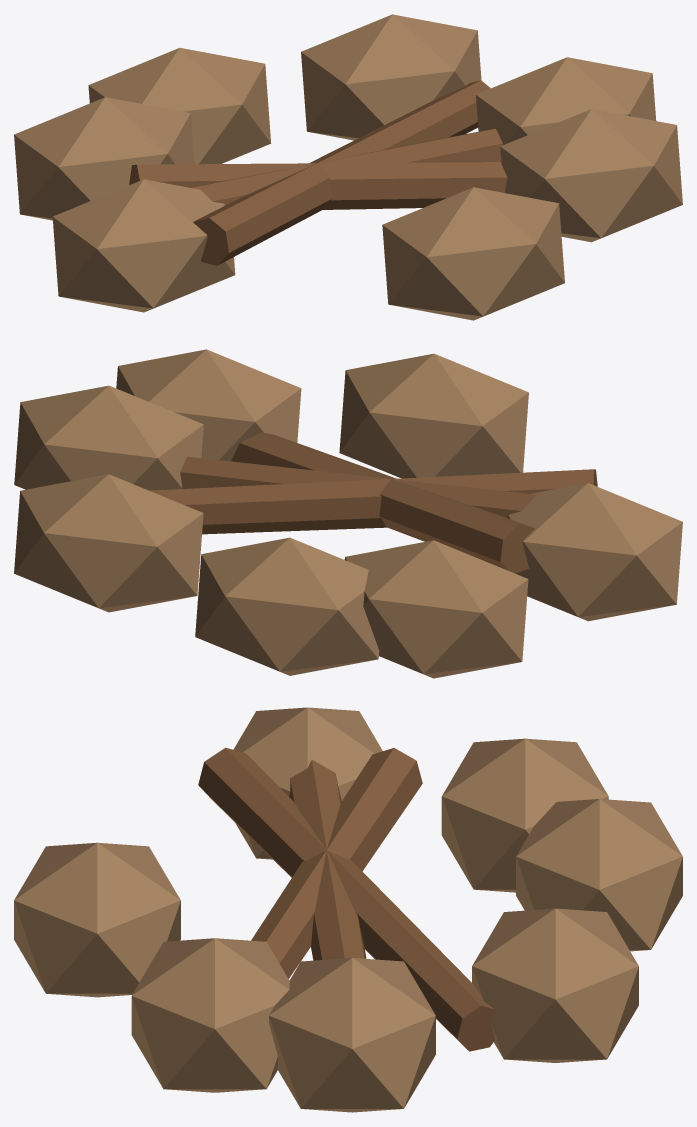
The model's file is CC_DemolitionRubble.fbx.
3 views of the same model, one above another, from view 1: azimuth 30°, elevation 25°; view 2: azimuth 150°, elevation 25°; view 3: azimuth 270°, elevation 25° (orthographic). The views are drawn at different scales.
Visible parts, largest first — view 1: Broken block.002, Broken block.004, Broken block.005, Broken block.003, Broken block.001, Broken block.006, Broken timber, Broken timber.002, Broken block, Broken timber.001; view 2: Broken block.003, Broken block.002, Broken block.006, Broken block.001, Broken block.004, Broken block, Broken timber, Broken block.005, Broken timber.002, Broken timber.001; view 3: Broken block, Broken block.003, Broken block.002, Broken block.005, Broken block.006, Broken timber, Broken block.001, Broken timber.002, Broken block.004, Broken timber.001.
Boxes of the visible parts, box(x1,y1,x2,y2) form: Broken block.002: box(382, 187, 564, 320); Broken block.004: box(52, 179, 235, 312); Broken block.005: box(500, 109, 682, 242); Broken block.003: box(301, 14, 481, 140); Broken block.001: box(14, 97, 194, 220); Broken block.006: box(88, 48, 271, 164); Broken timber: box(193, 80, 490, 265); Broken timber.002: box(129, 162, 507, 209); Broken block: box(476, 57, 656, 144); Broken timber.001: box(190, 128, 502, 205); Broken block.003: box(14, 474, 203, 612); Broken block.002: box(339, 353, 528, 478); Broken block.006: box(195, 537, 379, 675); Broken block.001: box(344, 540, 528, 678); Broken block.004: box(507, 483, 682, 621); Broken block: box(14, 385, 203, 490); Broken timber: box(149, 469, 597, 534); Broken block.005: box(116, 349, 301, 461); Broken timber.002: box(231, 432, 534, 573); Broken timber.001: box(180, 456, 536, 517); Broken block: box(269, 958, 435, 1112); Broken block.003: box(472, 908, 638, 1062); Broken block.002: box(14, 842, 180, 997); Broken block.005: box(131, 938, 289, 1092); Broken block.006: box(516, 799, 682, 951); Broken timber: box(198, 747, 494, 1051); Broken block.001: box(441, 738, 608, 892); Broken timber.002: box(251, 748, 422, 978); Broken block.004: box(233, 707, 382, 859); Broken timber.001: box(289, 760, 366, 960).
Bounding box in the file's own units: 2.89 × 0.6 × 2.35.
